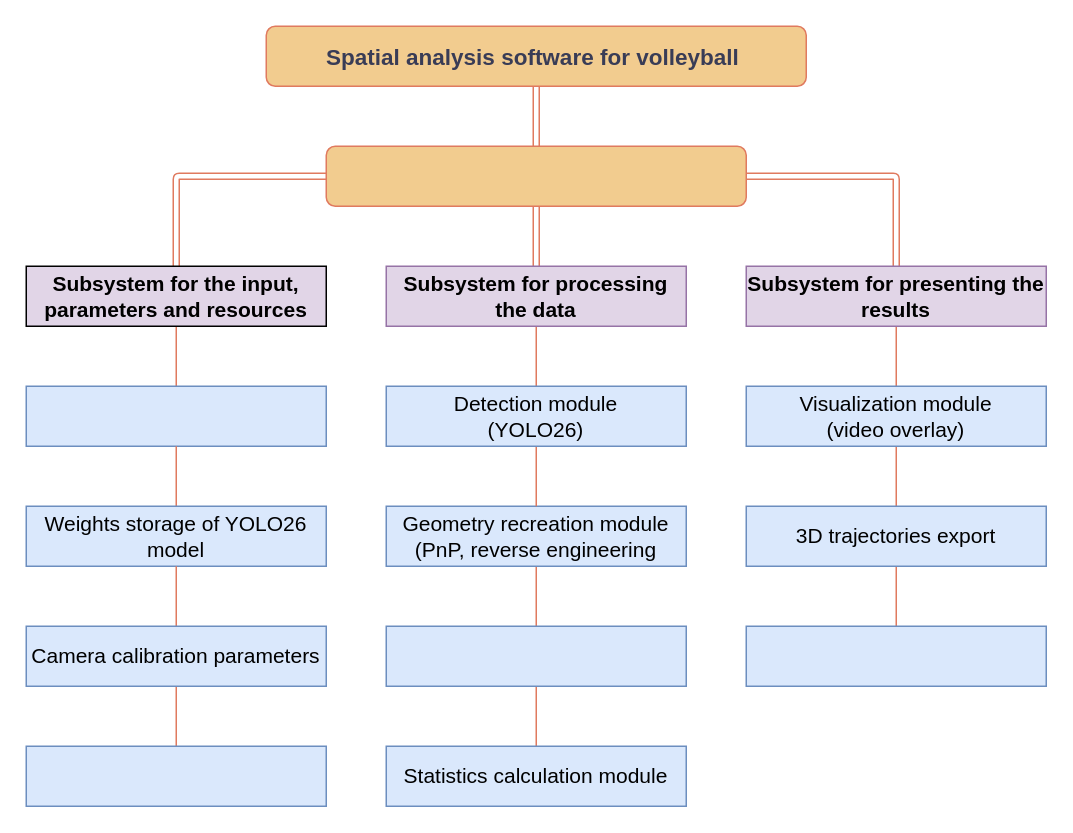
This 1073x833 diagram has some shape labels left out. The centre of each missing label's shape, as x and y in pixels:
Forming the statistics presentation: the point at 895,655
Pipeline Orchestrator(run_pipeline.sh): the point at 535,175
Startup configuration file: the point at 175,775
Tracking module (IMM/UKF, 9D-states): the point at 535,655
Video stream downloader: the point at 175,415
